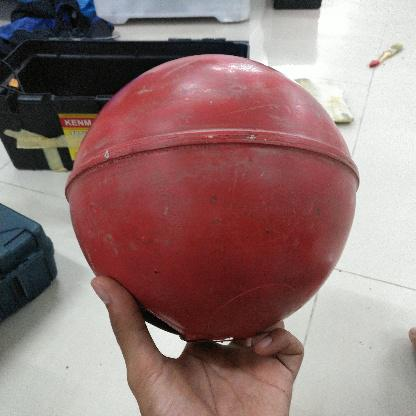red_buoy: (64, 54, 360, 339)
